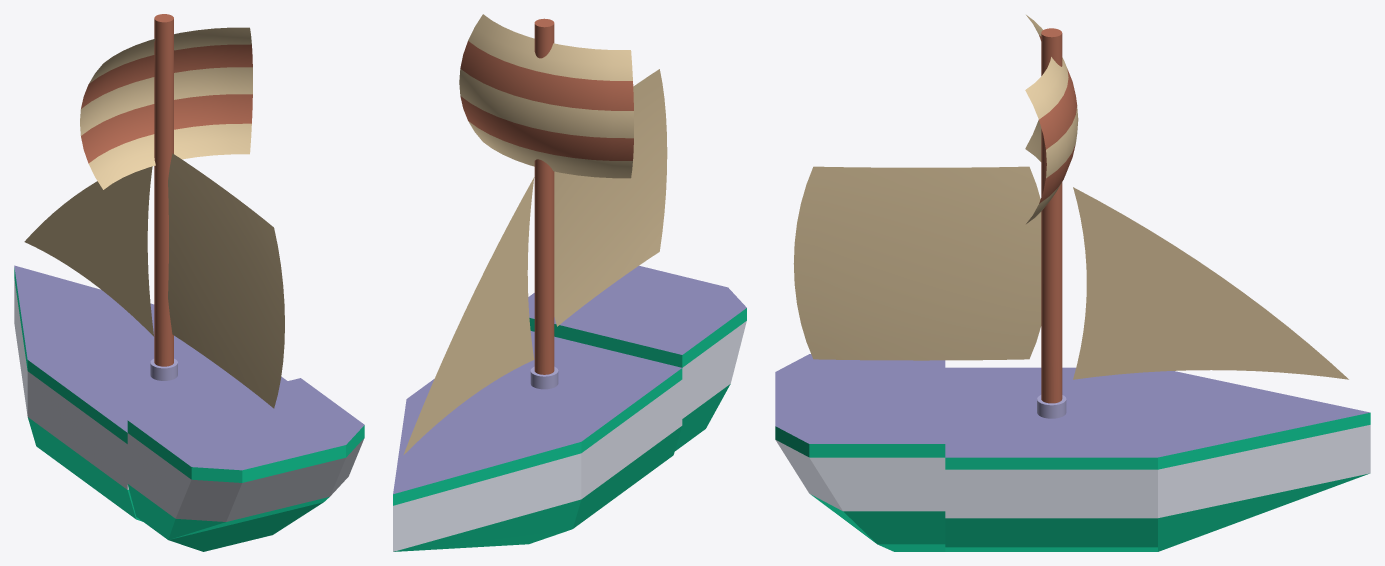
File: sloop.glb
The picture shows the model from 3 angles, left to right: view 1: azimuth 30°, elevation 25°; view 2: azimuth 150°, elevation 25°; view 3: azimuth 270°, elevation 25°; orthographic projection. The views are drawn at different scales.
Parts seen in each view (by area): view 1: mergedBlocks(Clone); view 2: mergedBlocks(Clone); view 3: mergedBlocks(Clone).
Part boxes in pixels (x1,y1,x2,y2): mergedBlocks(Clone): (14, 14, 364, 551); mergedBlocks(Clone): (393, 14, 746, 551); mergedBlocks(Clone): (775, 15, 1370, 551).
Bounding box in the file's own units: 1 × 2.6 × 2.8.
